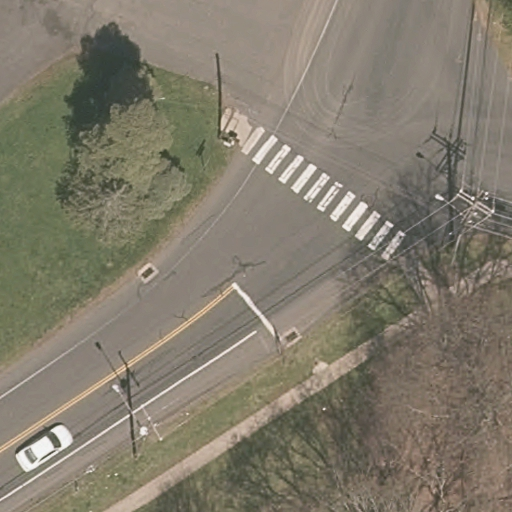DT: (112, 385, 149, 440), (450, 187, 497, 216)
